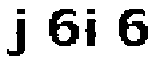6: (43, 7, 82, 51), (117, 4, 149, 51)
i: (83, 6, 105, 50)
j: (2, 5, 31, 59)
